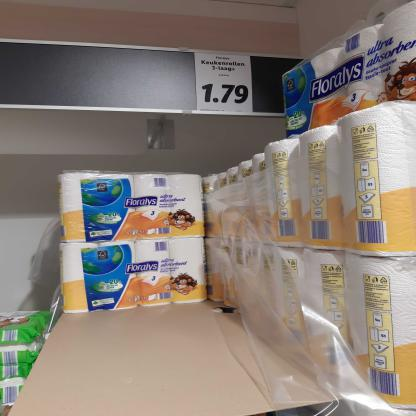prtg: (195, 54, 254, 113)
